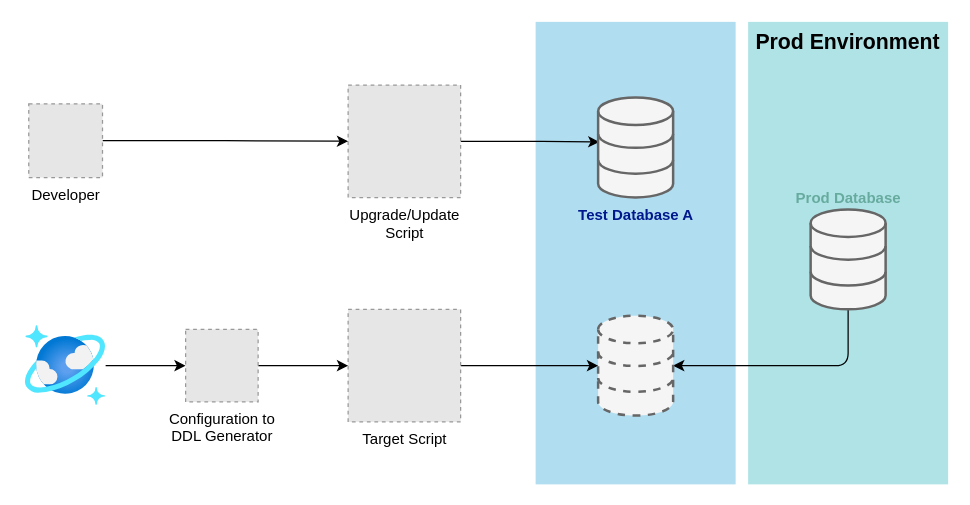
Image size: 970x505. Some labels were removed from this diagram. Grey dashed boxes stand in for pictures. The box of each missing label's shape, as (x1, y1, x2, y2) in pixels:
Table Level Configuration Data Store: (25, 325, 105, 405)
Test Database B: (596, 314, 674, 416)
Test Environment: (535, 21, 735, 484)
